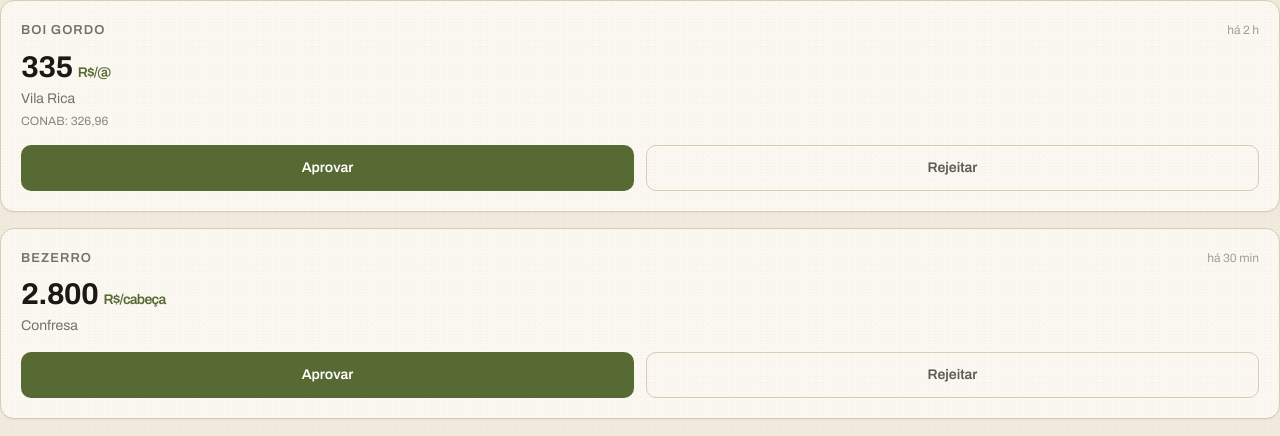
FilaModeracao › aprovar remove o card na hora e envia a decisão
Click the button "Aprovar" below "CONAB:" at (328, 168), box [21,144,634,190]
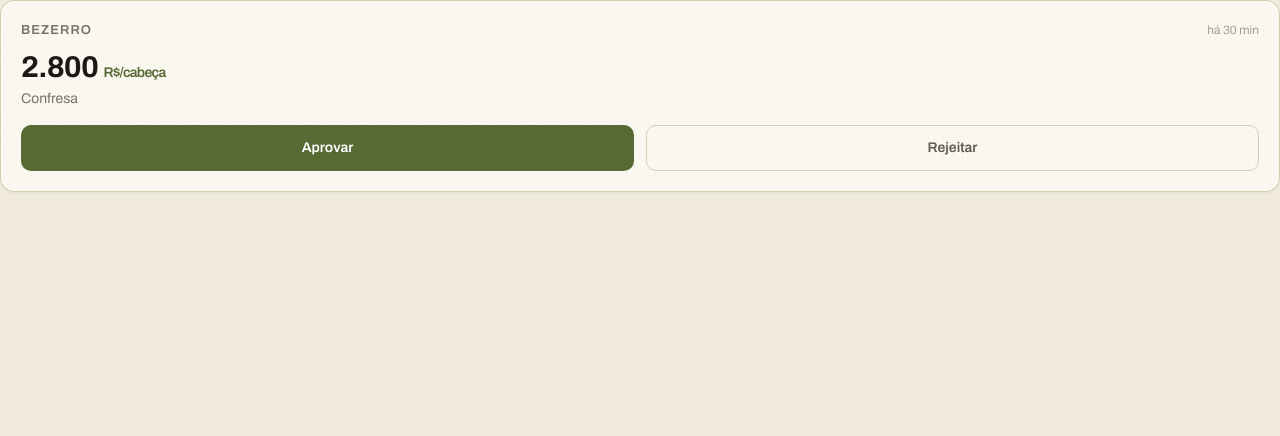
Check: the heading "Boi gordo" is gone
